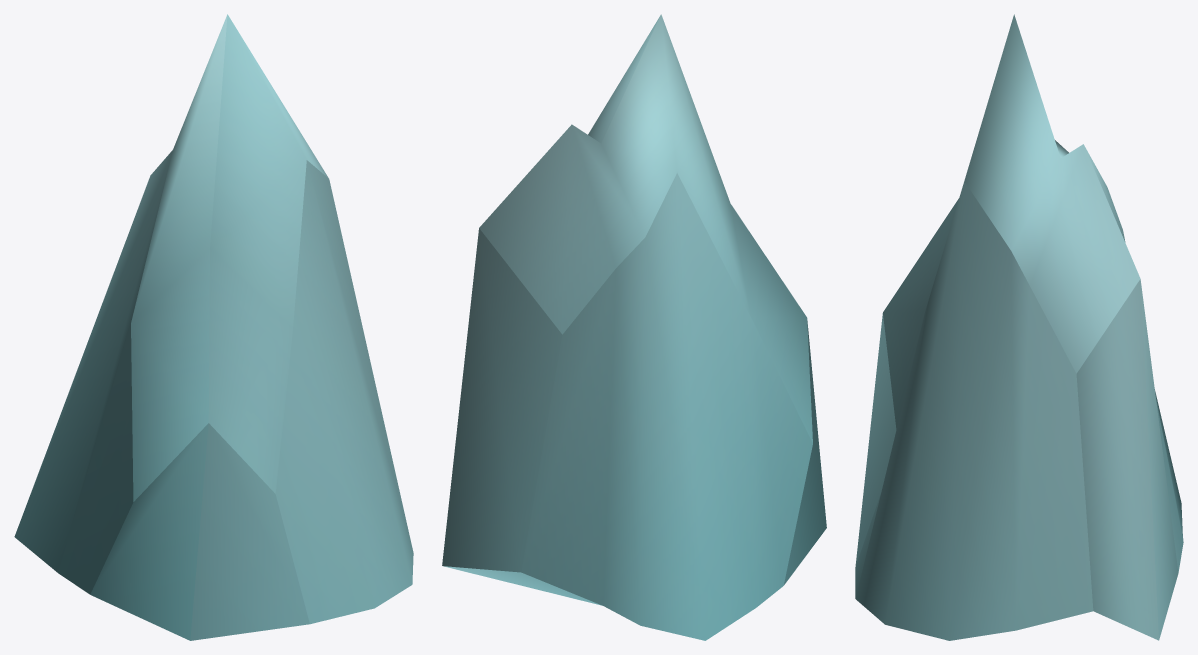
Rendered from Ice_V5_paint.fbx.
3 renders of one model, left to right at view 1: azimuth 30°, elevation 25°; view 2: azimuth 150°, elevation 25°; view 3: azimuth 270°, elevation 25°, orthographic. The views are drawn at different scales.
Visible parts, largest first — view 1: V5; view 2: V5; view 3: V5.
Part boxes in pixels (<box>): V5: <box>14,14,413,640</box>; V5: <box>442,14,826,640</box>; V5: <box>855,14,1183,640</box>.
Bounding box in the file's own units: 0.986 × 1.8 × 0.9691.
